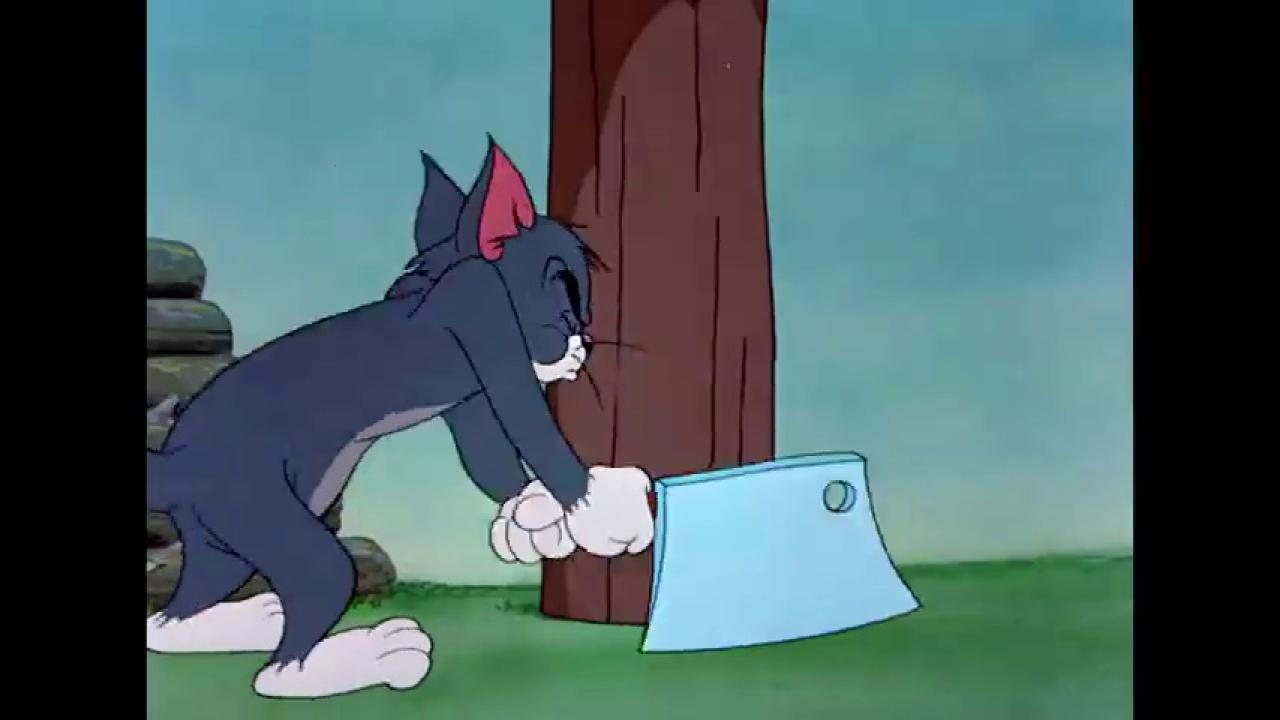Tom: (149, 127, 658, 700)
